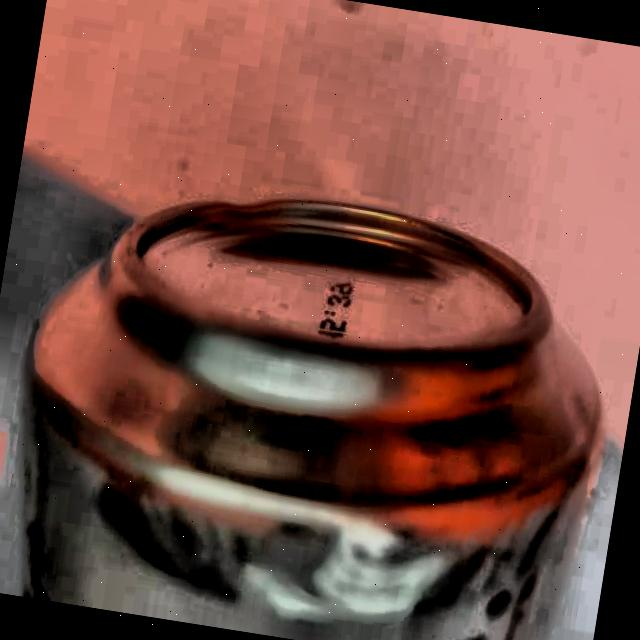metal: (0, 144, 629, 640)
